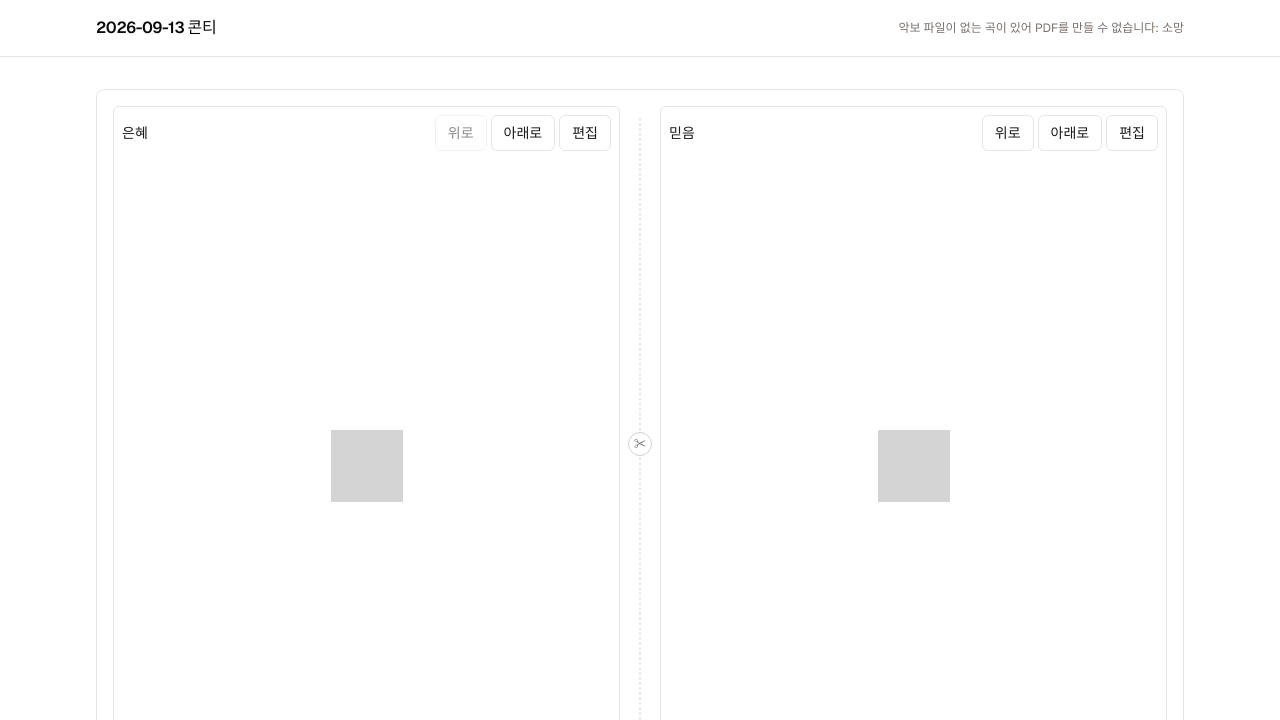
Test: 순서 변경 › 저장에 실패하면 서버 문구를 보이고 순서는 그대로여야 한다
Click the button with aria-label "믿음 아래로" at point(1070, 133), box [1038,115,1102,151]
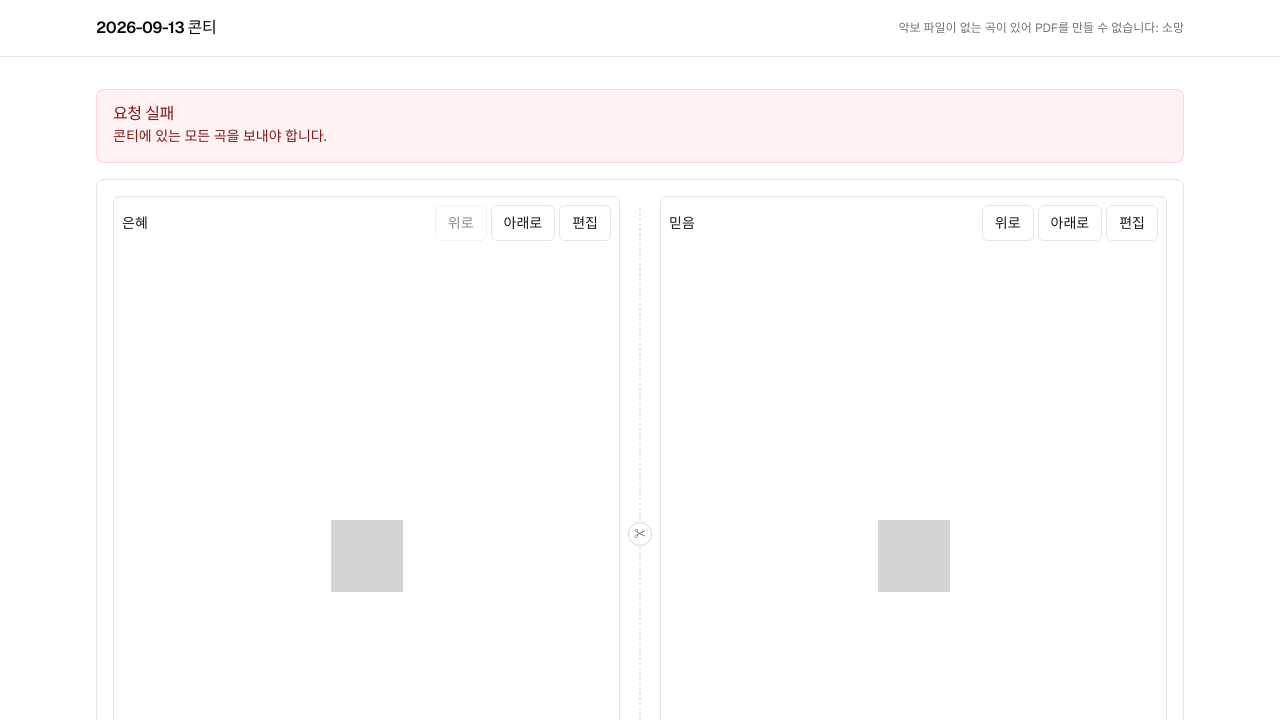
Expected: the button with aria-label "믿음 아래로" is enabled, [1038,205,1102,241]
Result: the message shows "콘티에 있는 모든 곡을 보내야 합니다." at [113,127,326,145]
